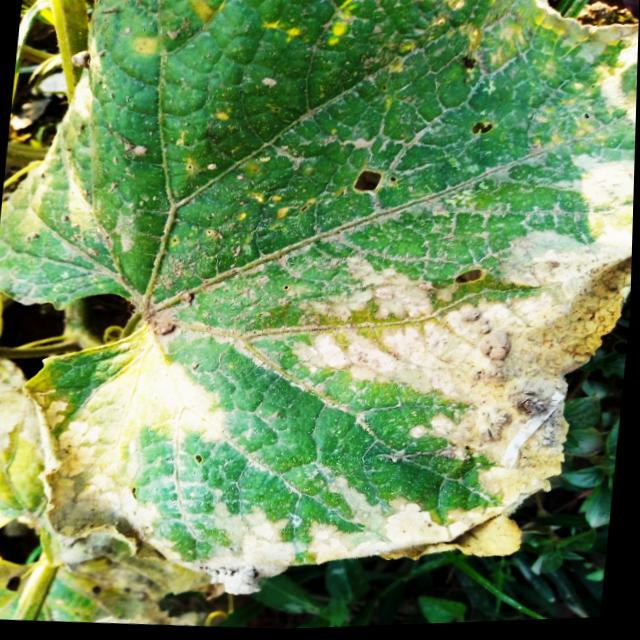Gummy-Stem-Blight: (24, 221, 633, 594), (529, 0, 639, 119), (537, 152, 635, 209)
